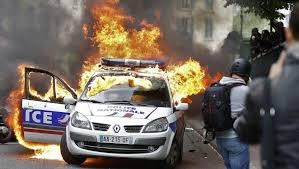fire: (83, 0, 165, 59)
